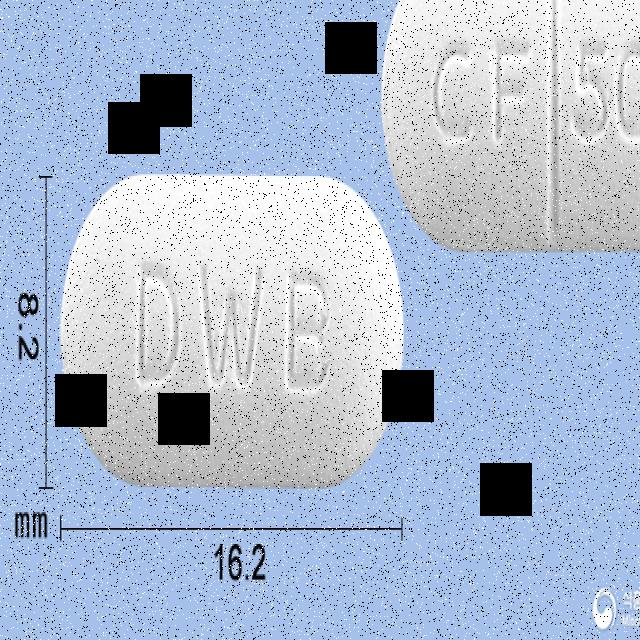Bearcin: (57, 167, 407, 495)
